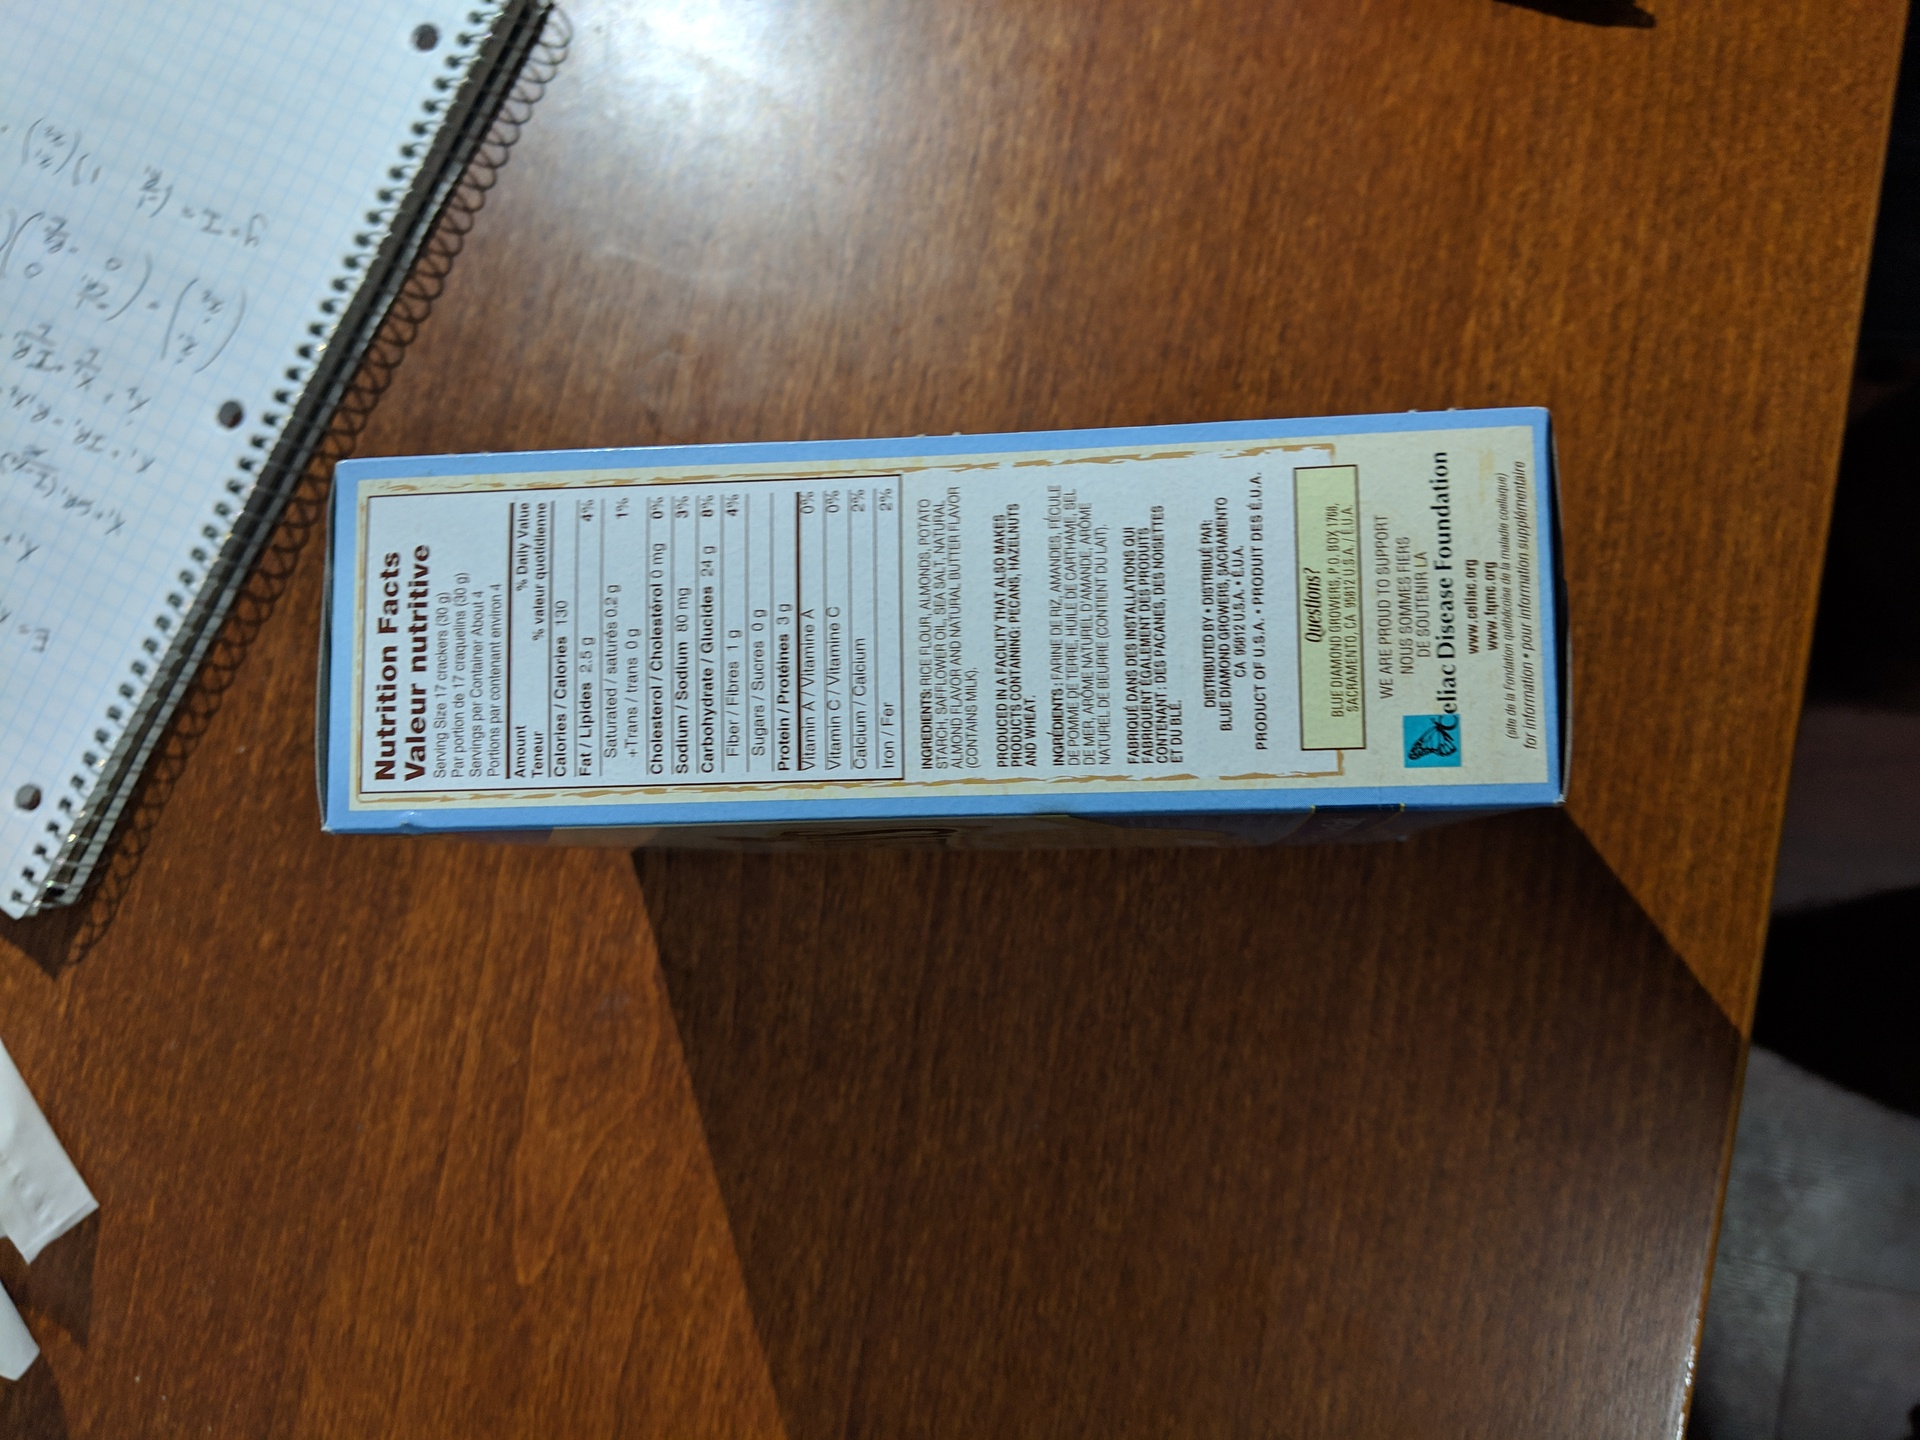blue_diamond_nut_thins_almond_seasalt: (342, 417, 1545, 818)
